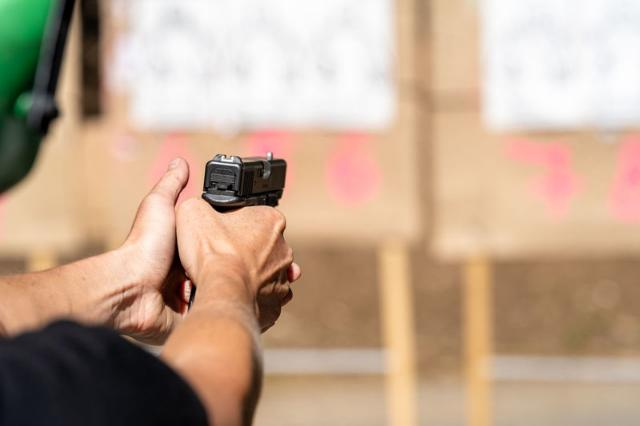handgun: (184, 149, 290, 317)
